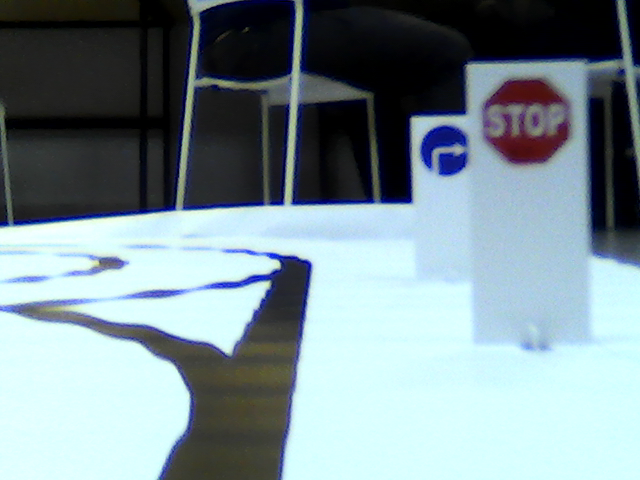Right: (419, 124, 469, 175)
Stop: (479, 74, 573, 165)
